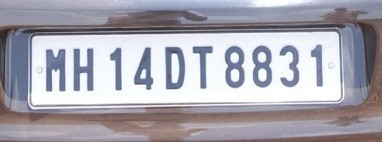MH14DT8831: (30, 30, 345, 109)
